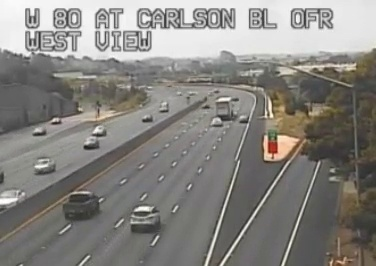car: (62, 190, 98, 215), (129, 205, 160, 228)
